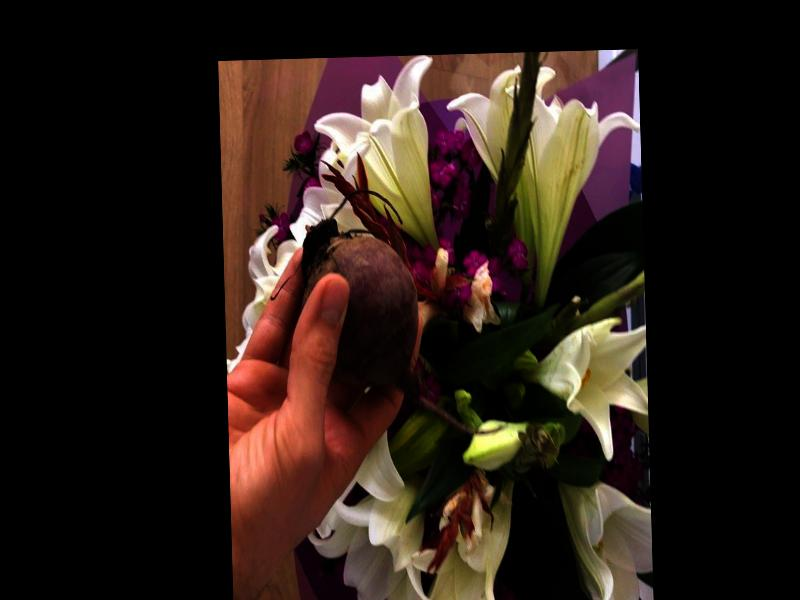Beet: (298, 185, 504, 440)
